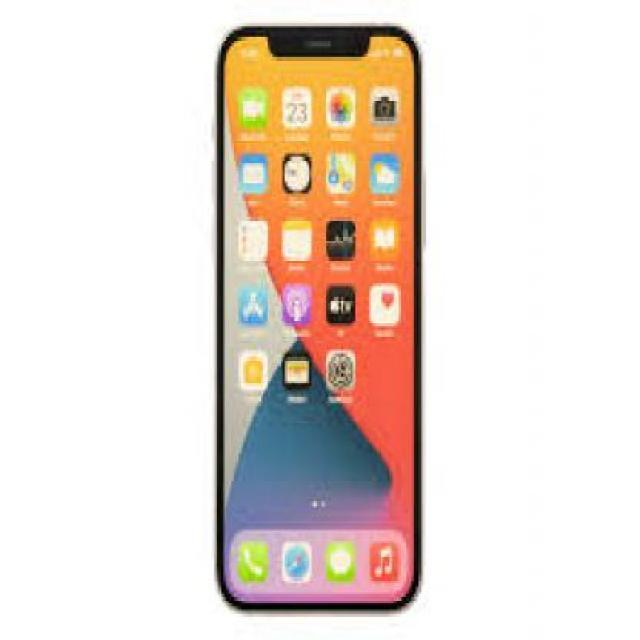phone: (219, 26, 422, 617)
